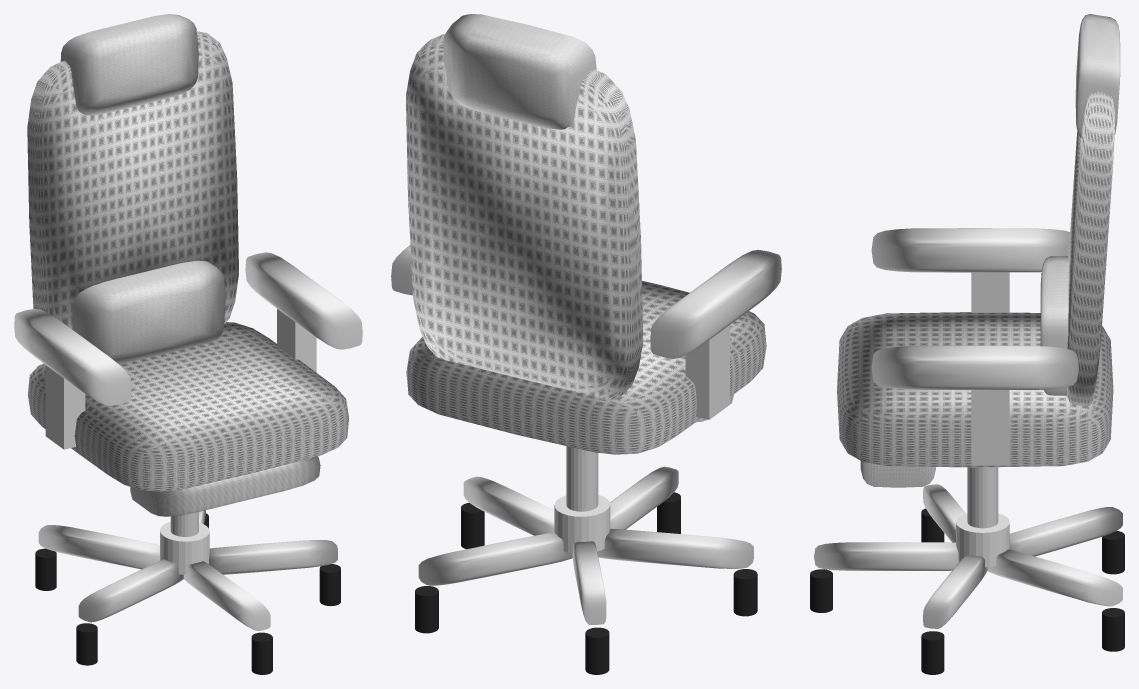
3 views of the same model, side by side, from view 1: azimuth 30°, elevation 25°; view 2: azimuth 150°, elevation 25°; view 3: azimuth 270°, elevation 25° (orthographic). The views are drawn at different scales.
Visible parts, largest first — view 1: 3 backrest, 1 seat, 5 lumbar_pillow, 4 headrest, 6 armrest_left, 8 armrest_right, 2 footrest, 13 base_spoke_2, 15 base_spoke_4, 16 base_spoke_5, 12 base_spoke_1, 7 armrest_support_left (+7 smaller); view 2: 3 backrest, 1 seat, 4 headrest, 6 armrest_left, 16 base_spoke_5, 14 base_spoke_3, 13 base_spoke_2, 7 armrest_support_left, 12 base_spoke_1, 11 base_hub, 15 base_spoke_4, 10 center_column (+6 smaller); view 3: 1 seat, 3 backrest, 8 armrest_right, 6 armrest_left, 12 base_spoke_1, 4 headrest, 14 base_spoke_3, 15 base_spoke_4, 9 armrest_support_right, 5 lumbar_pillow, 13 base_spoke_2, 11 base_hub (+9 smaller).
Part boxes in pixels (<box>): 3 backrest: <box>27,31,238,329</box>; 1 seat: <box>28,322,348,491</box>; 5 lumbar_pillow: <box>72,260,225,364</box>; 4 headrest: <box>60,14,198,115</box>; 6 armrest_left: <box>14,308,131,405</box>; 8 armrest_right: <box>245,252,362,349</box>; 2 footrest: <box>130,456,320,516</box>; 13 base_spoke_2: <box>209,540,337,574</box>; 15 base_spoke_4: <box>38,525,159,569</box>; 16 base_spoke_5: <box>78,559,183,622</box>; 12 base_spoke_1: <box>183,561,270,630</box>; 7 armrest_support_left: <box>45,365,85,449</box>; 3 backrest: <box>406,34,643,399</box>; 1 seat: <box>406,280,766,454</box>; 4 headrest: <box>443,14,596,129</box>; 6 armrest_left: <box>650,249,781,358</box>; 16 base_spoke_5: <box>597,528,753,568</box>; 14 base_spoke_3: <box>418,532,572,585</box>; 13 base_spoke_2: <box>463,476,554,535</box>; 7 armrest_support_left: <box>685,325,729,419</box>; 12 base_spoke_1: <box>610,466,678,529</box>; 11 base_hub: <box>554,495,610,553</box>; 15 base_spoke_4: <box>572,541,606,624</box>; 10 center_column: <box>566,446,598,511</box>; 1 seat: <box>837,312,1113,467</box>; 3 backrest: <box>1066,91,1114,405</box>; 8 armrest_right: <box>871,345,1078,390</box>; 6 armrest_left: <box>871,228,1069,272</box>; 12 base_spoke_1: <box>814,542,958,570</box>; 4 headrest: <box>1075,14,1120,137</box>; 14 base_spoke_3: <box>987,549,1122,606</box>; 15 base_spoke_4: <box>1009,507,1122,556</box>; 9 armrest_support_right: <box>971,390,1009,465</box>; 5 lumbar_pillow: <box>1040,256,1068,395</box>; 13 base_spoke_2: <box>923,554,987,628</box>; 11 base_hub: <box>956,513,1009,567</box>.
Bounding box in the file's own units: 0.5 × 1 × 0.5.
8 materials, 4 textured.
